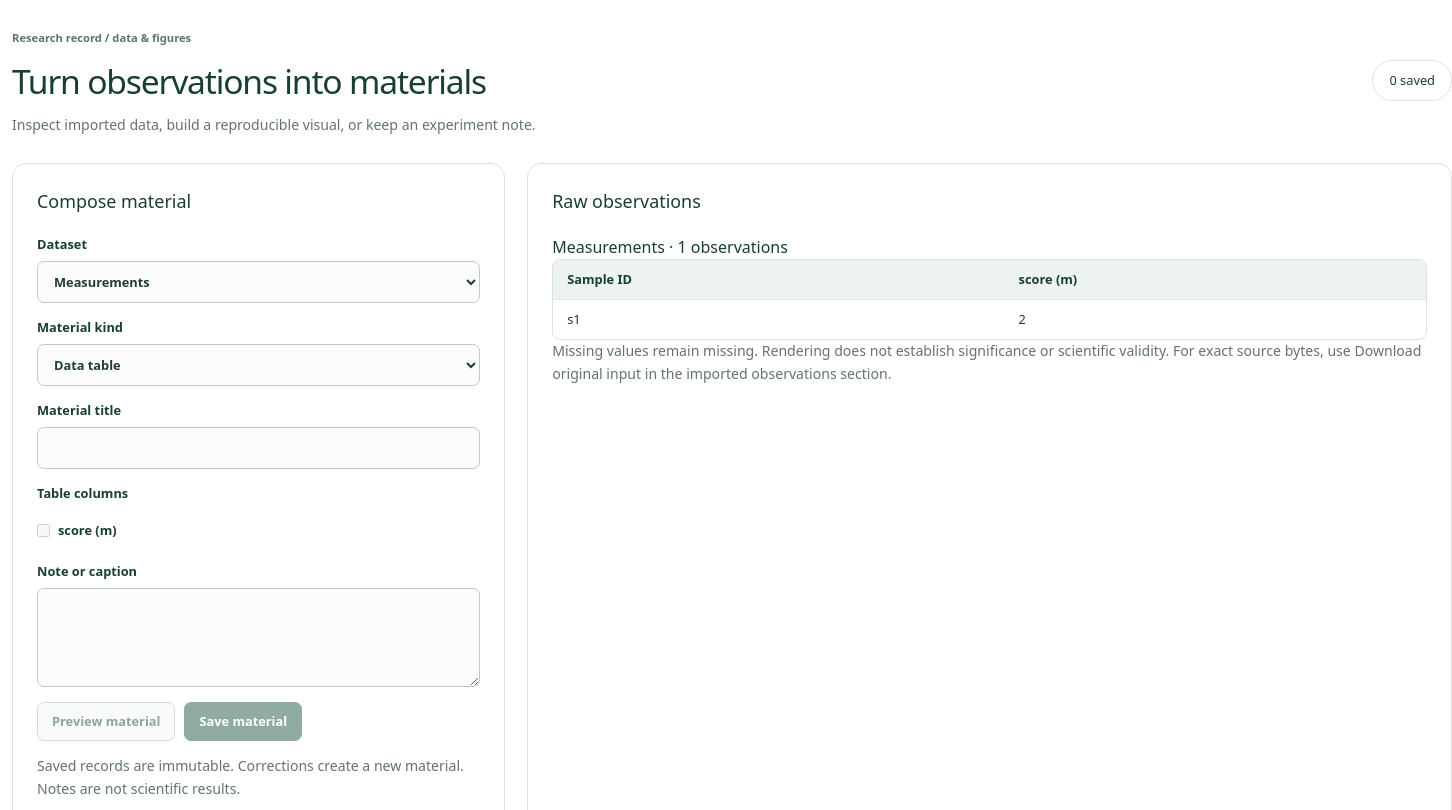
it: reader can browse another raw dataset
Step 1. Select "Second dataset" in the dropdown labelled "Dataset" → (259, 282), box [37, 261, 480, 303]
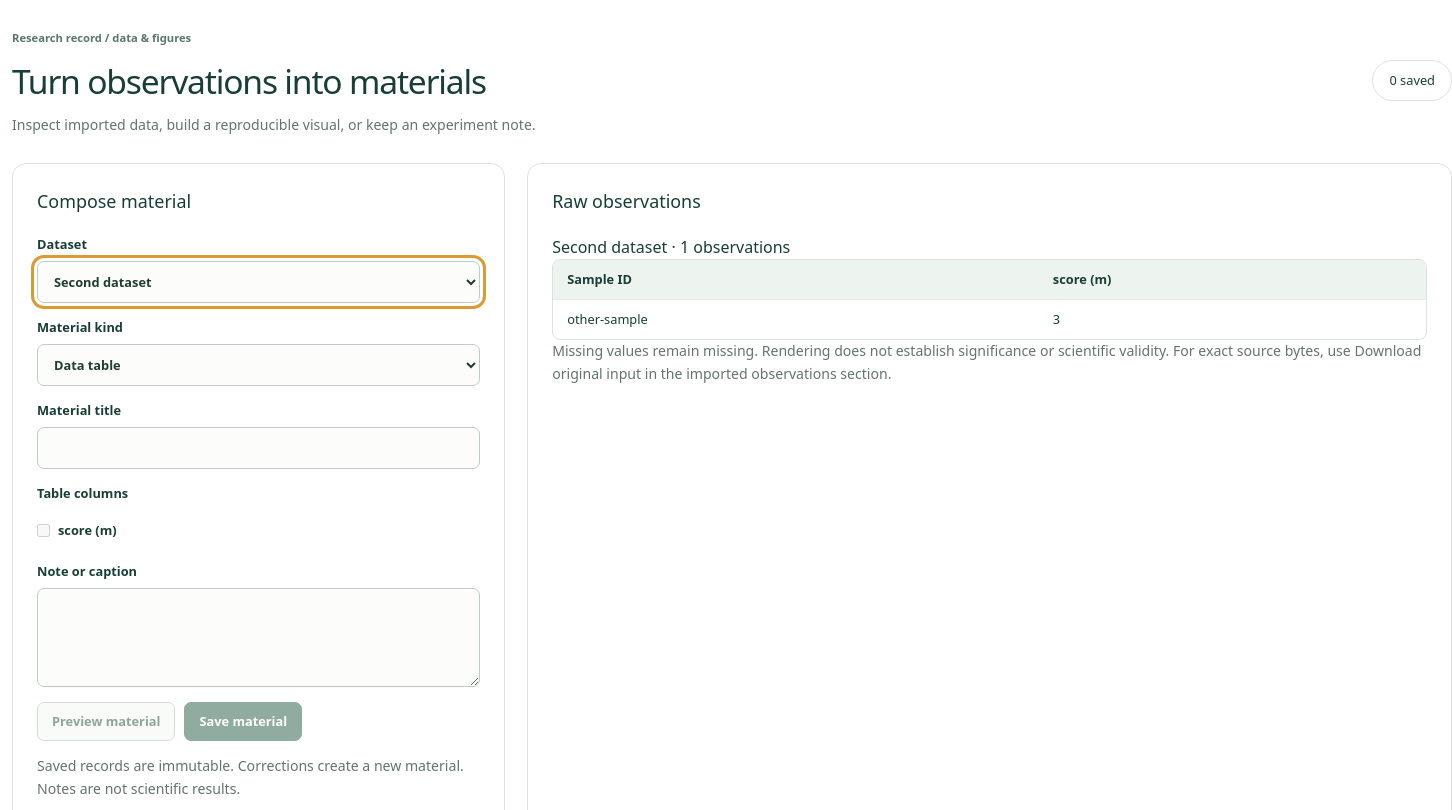
Expected: the button "Save material" is disabled, [184, 702, 302, 741]
Result: the text "other-sample" is shown at [553, 300, 1039, 339]
